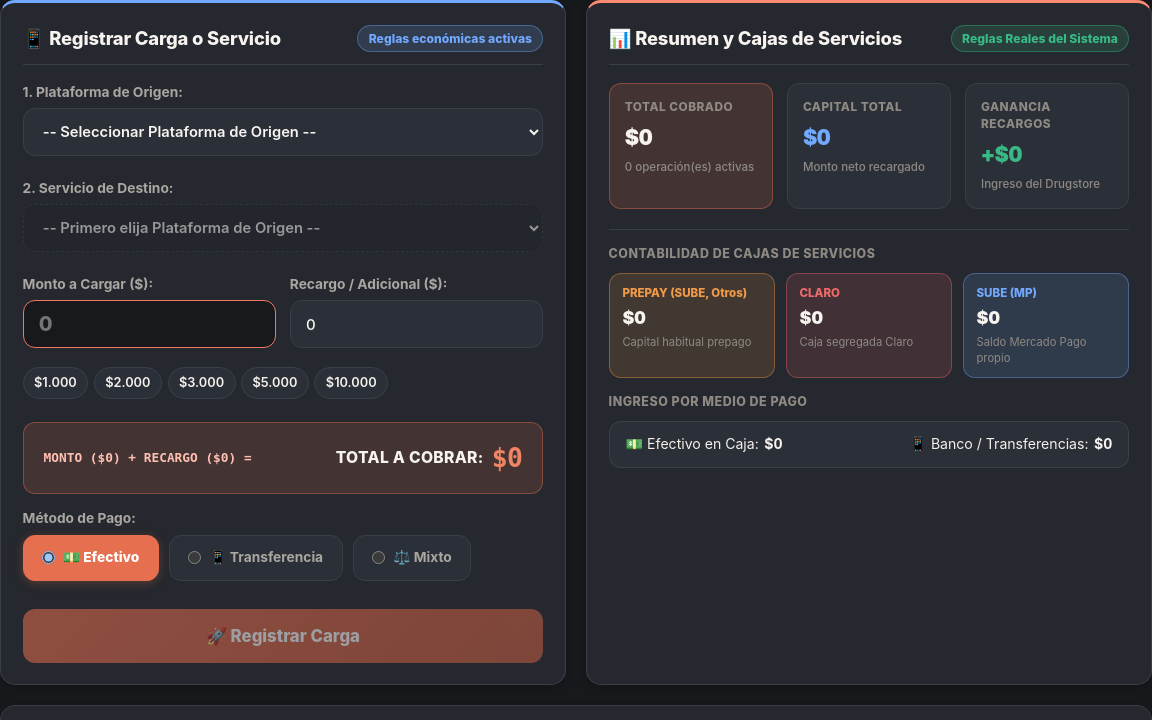
Test: GenaroPOS — Prioridad 2: Validación de Concurrencia y Envíos en Servicios › 4. Protege contra envíos duplicados ante doble submit mientras la operación está pendiente
Check: the number field with test id "input-service-amount" is shown, box [23, 300, 276, 348]
Select "PREPAY" in the dropdown with test id "select-plataforma-origen" at (283, 132), box [23, 108, 543, 156]
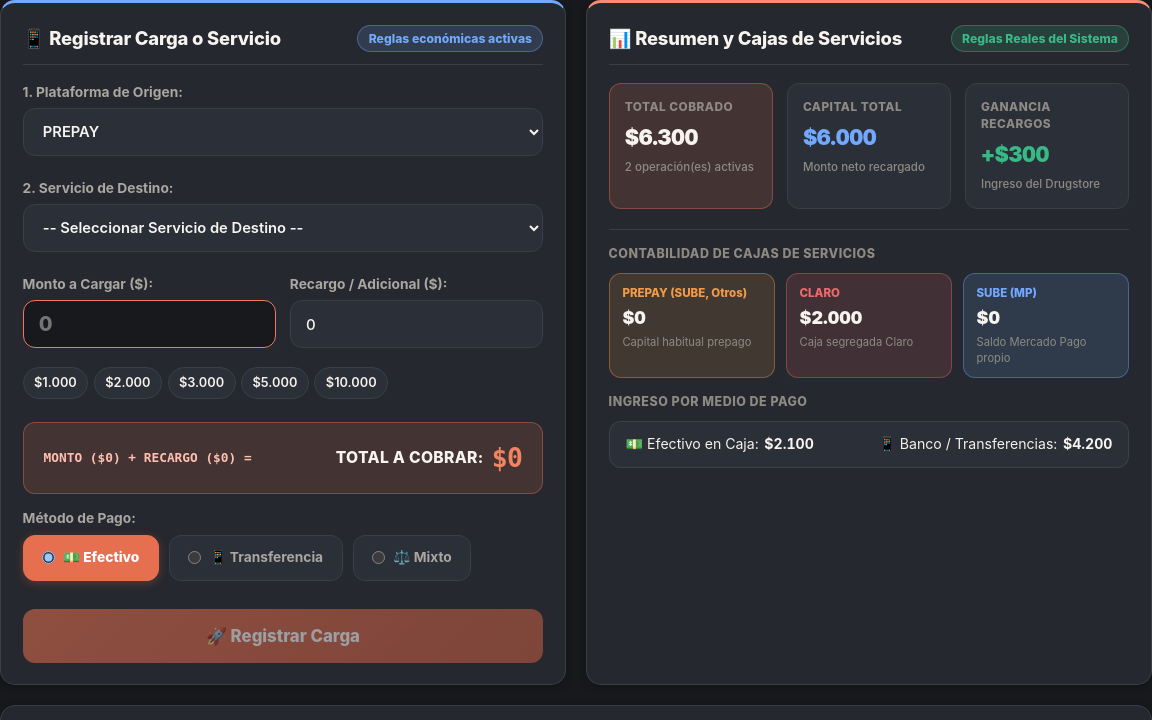
Select "Personal" in the dropdown with test id "select-servicio-destino" at (283, 228), box [23, 204, 543, 252]
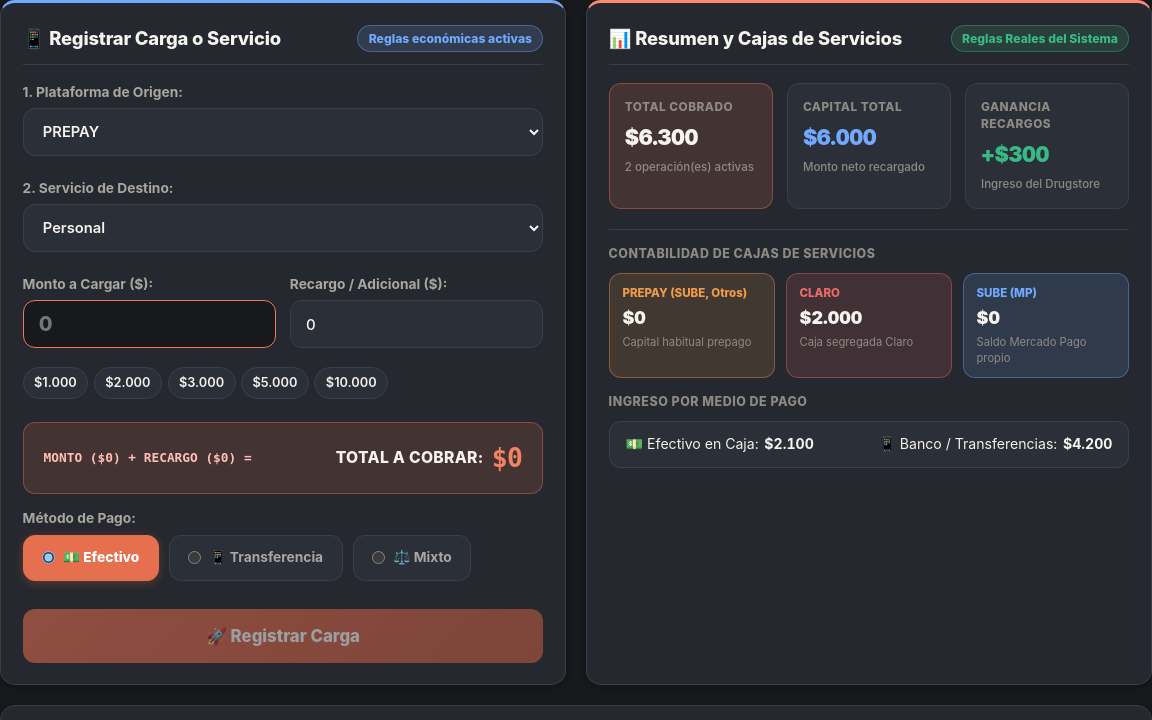
Type "2000" into the number field with test id "input-service-amount" at (149, 324), box [23, 300, 276, 348]
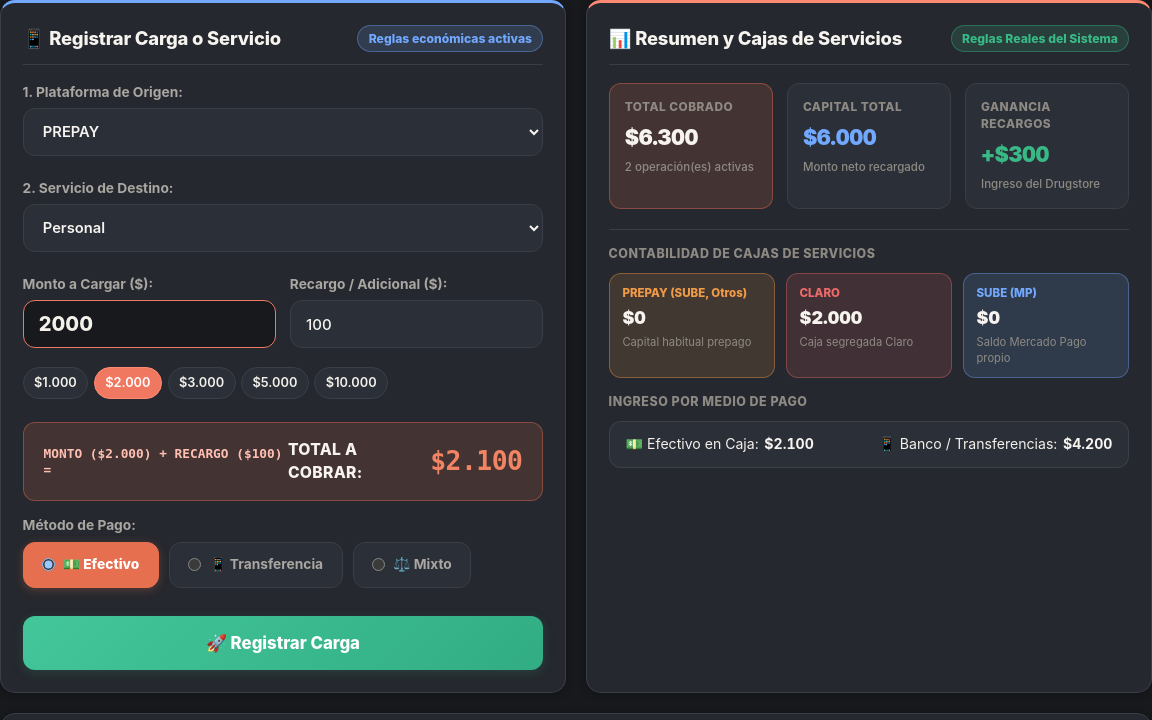
// Primer submit
Submit the form with test id "services-form", box [23, 83, 543, 670]
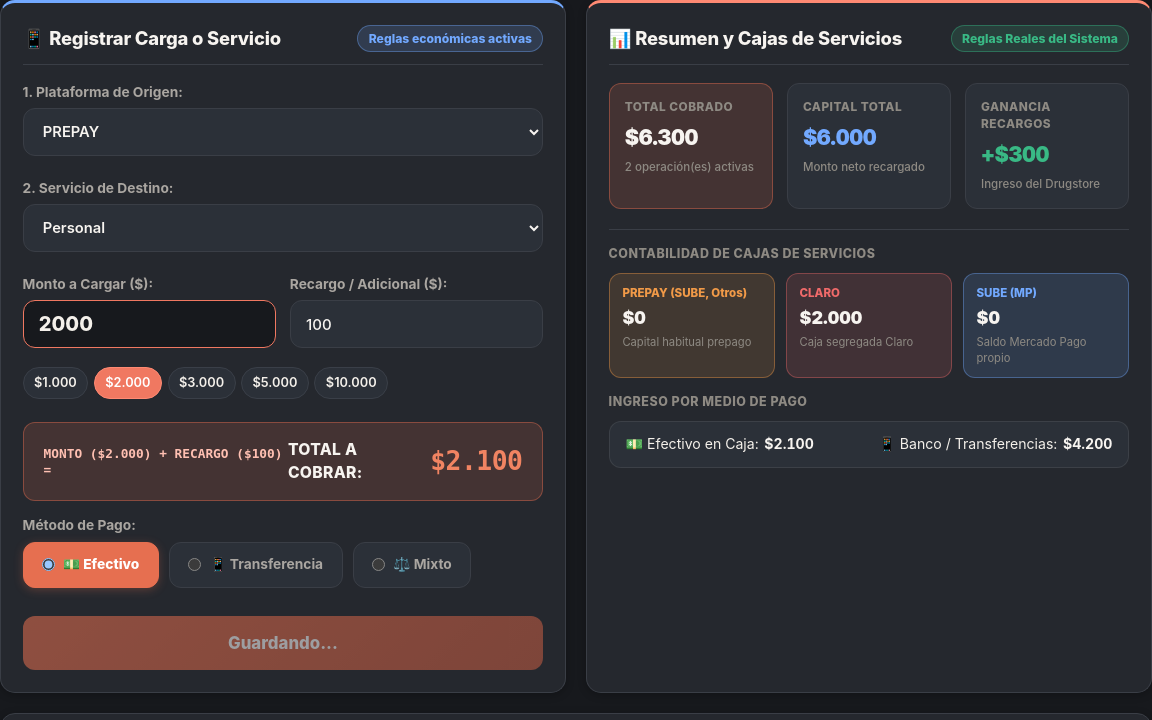
Check: the button with test id "btn-register-charge" is disabled, box [23, 616, 543, 670]
Check: the button with test id "btn-register-charge" reads "Guardando...", box [23, 616, 543, 670]
// Intentar segundo y tercer submit mientras sigue pendiente
Submit the form with test id "services-form", box [23, 83, 543, 670]
Click the button with test id "btn-register-charge" at (283, 643), box [23, 616, 543, 670]
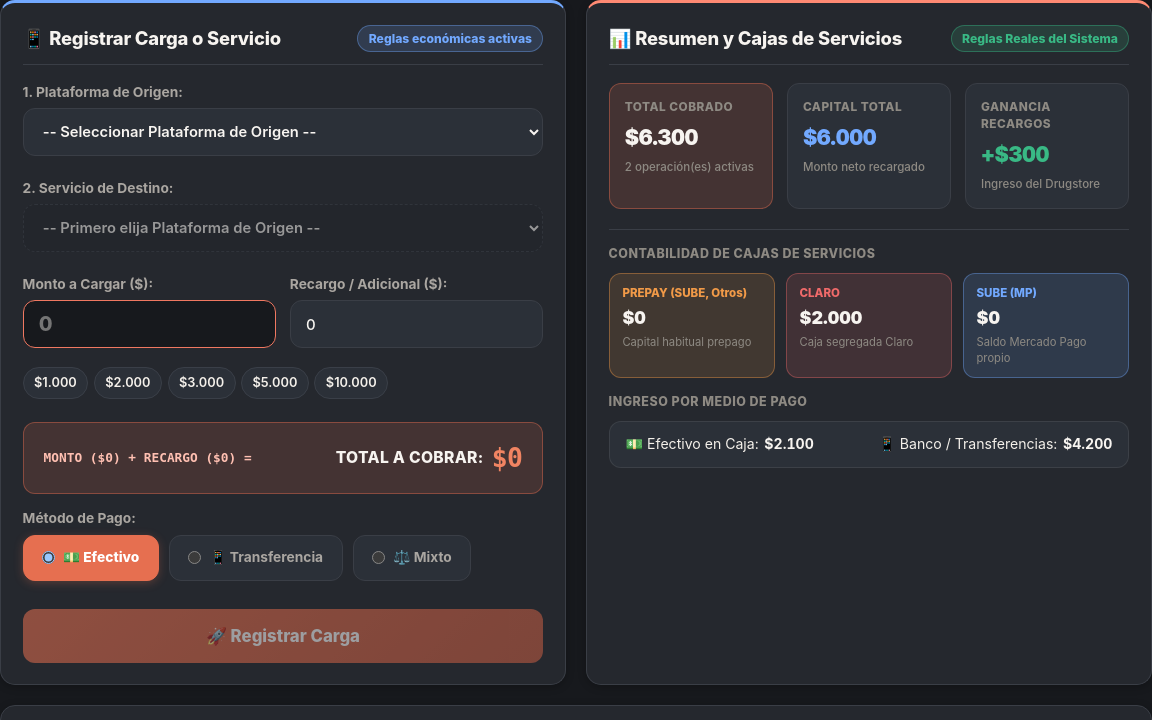
Check: the button with test id "btn-register-charge" reads "🚀 Registrar Carga", box [23, 609, 543, 663]
